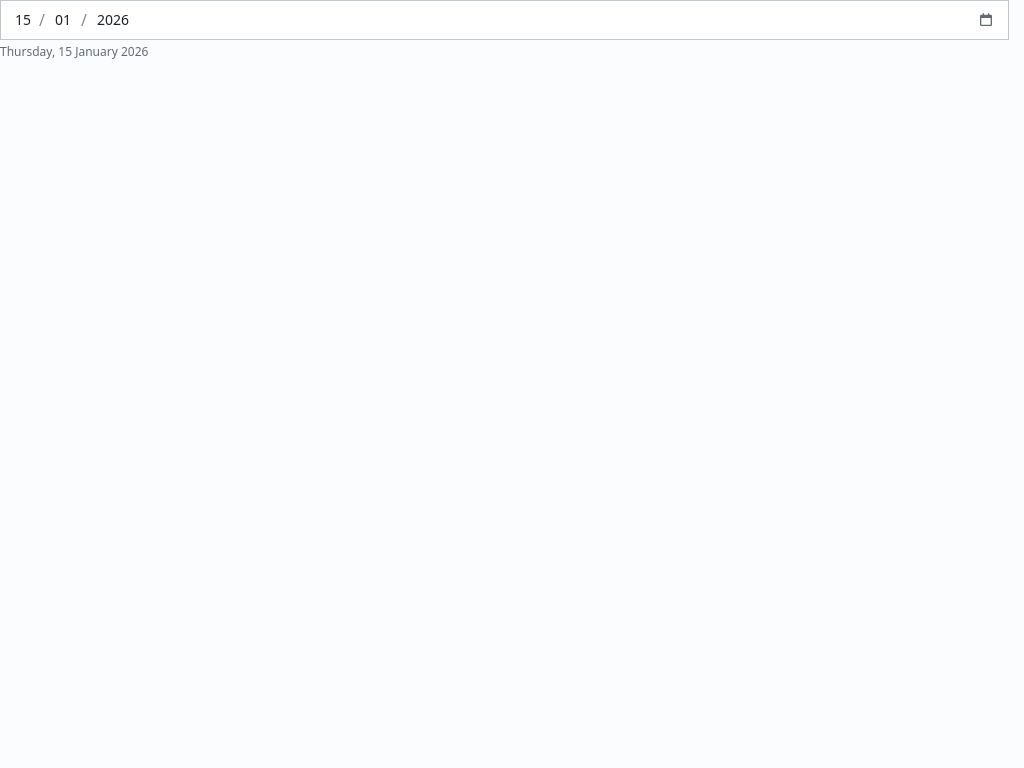
the calendar › pages backwards and forwards, carrying the year
Click the button named "Open calendar" at [986, 20], box [972,6,1000,34]
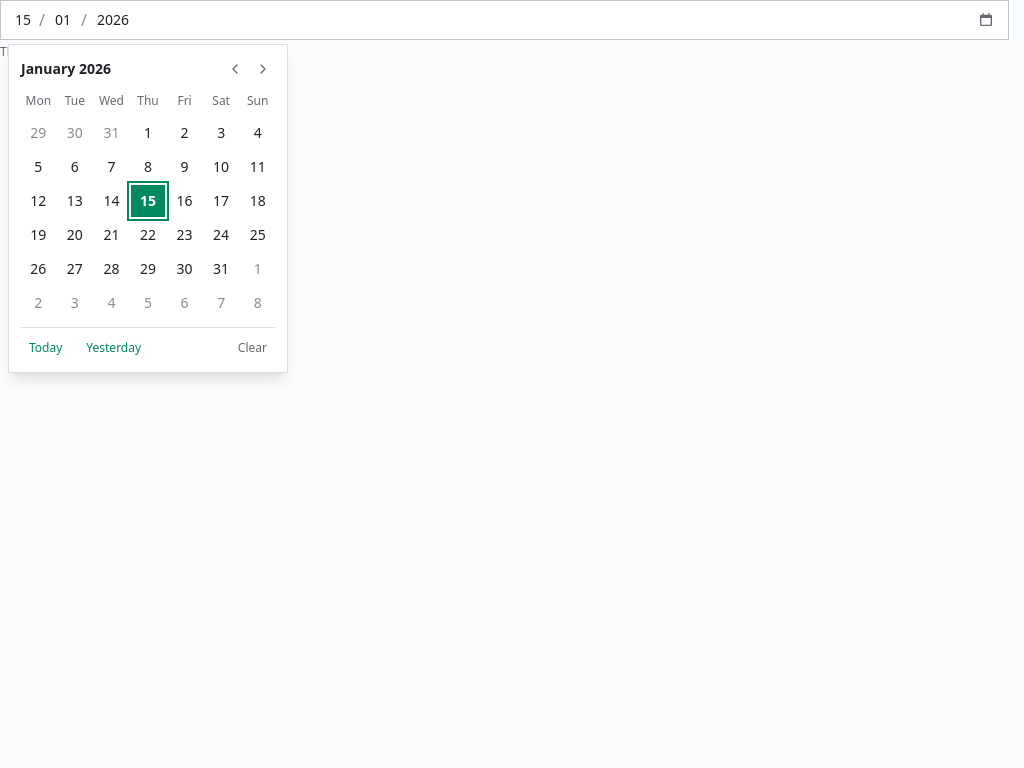
Click the button named "Previous month" at [235, 69], box [223,57,247,81]
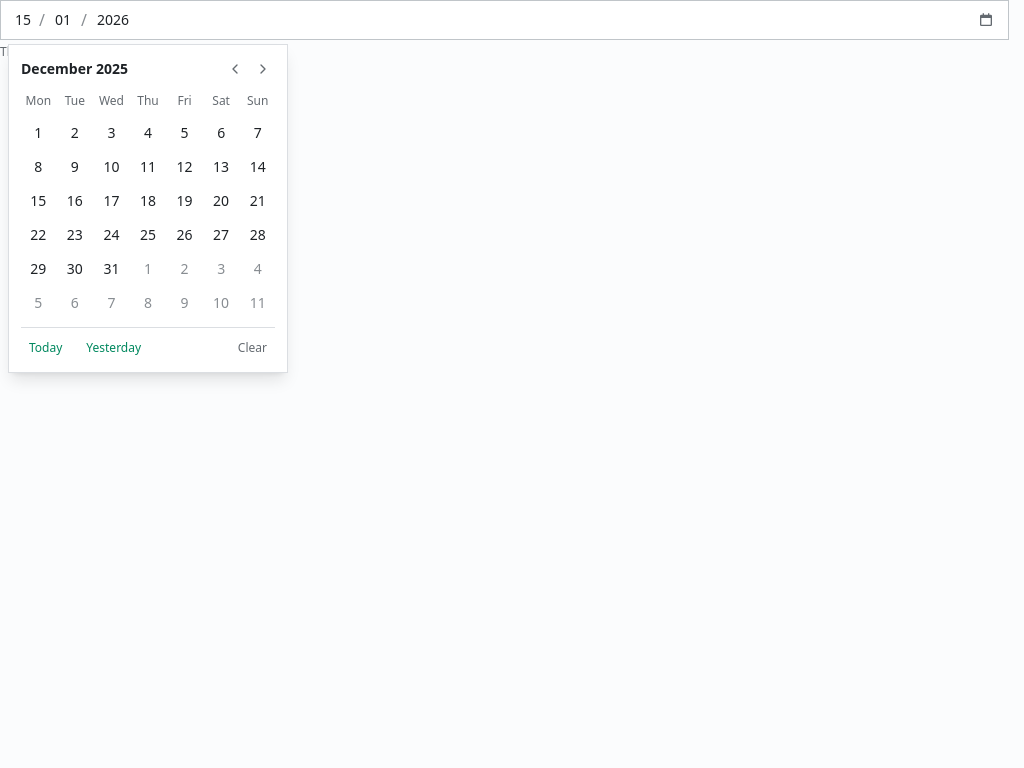
Expected: the text "December 2025" is shown, [21,59,128,79]
Click the button named "Next month" at [263, 69], box [251,57,275,81]
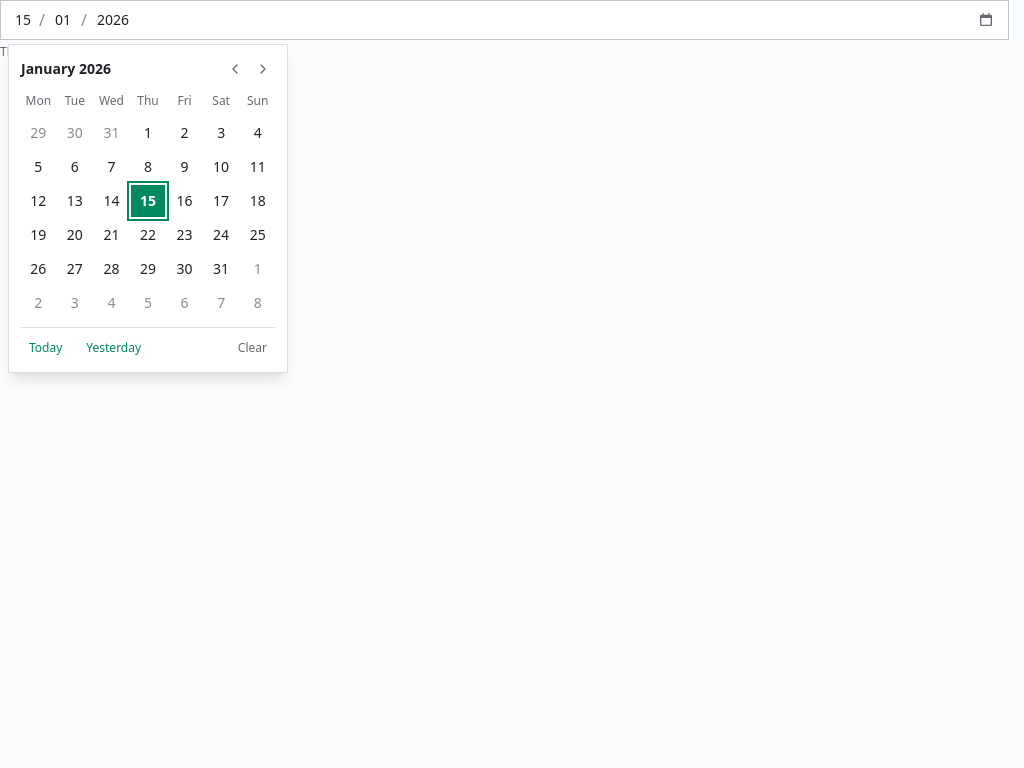
Click the button named "Next month" at [263, 69], box [251,57,275,81]
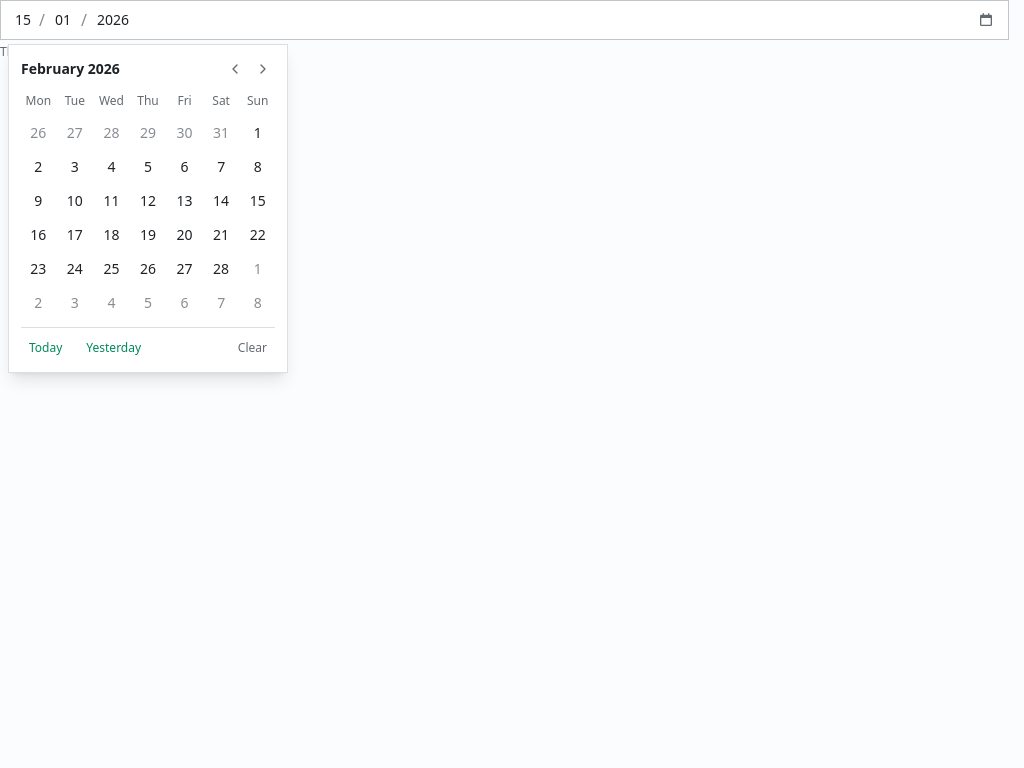
Expected: the text "February 2026" is shown, [21,59,120,79]
